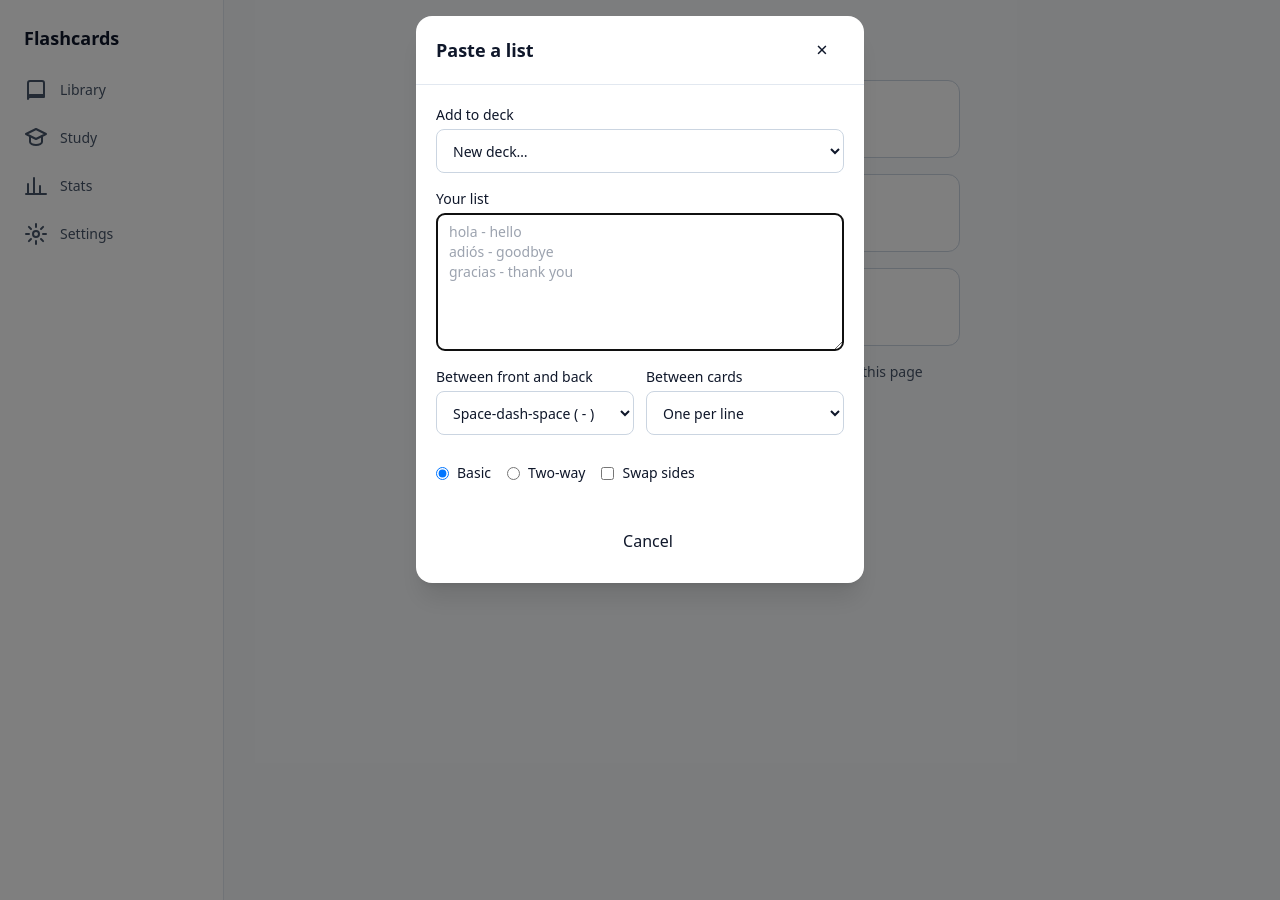
Scenario: bulk paste dialog › disables create when nothing parses
Type "no separator here" into the text box labelled "Your list" at (640, 282), box [436,213,844,351]
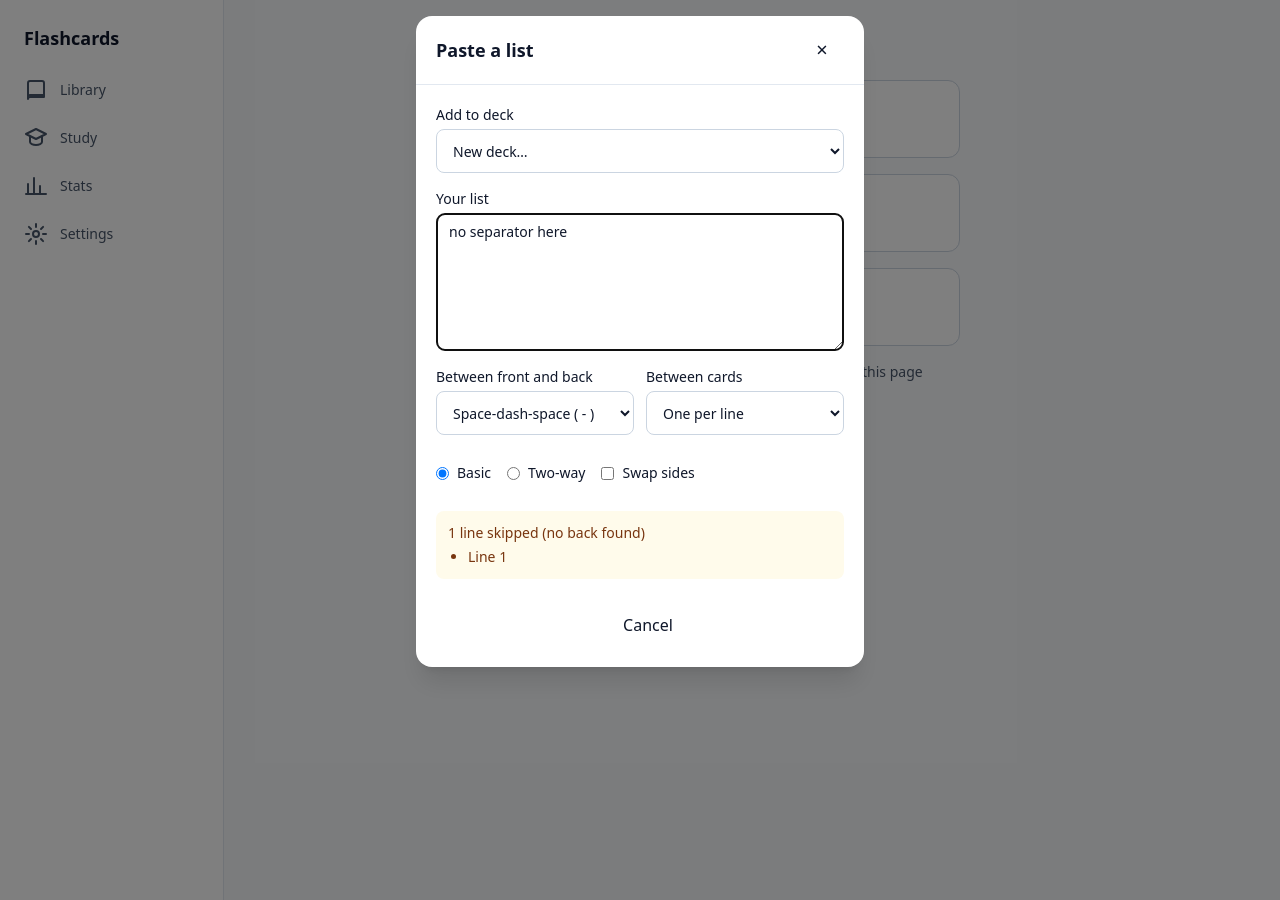
Expected: the text "1 line skipped (no back found)" is shown, [448,523,645,542]
